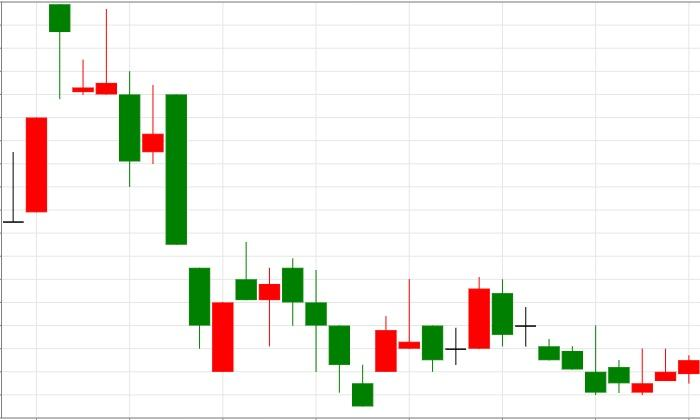hanging_man_fall: (3, 3, 71, 223)
